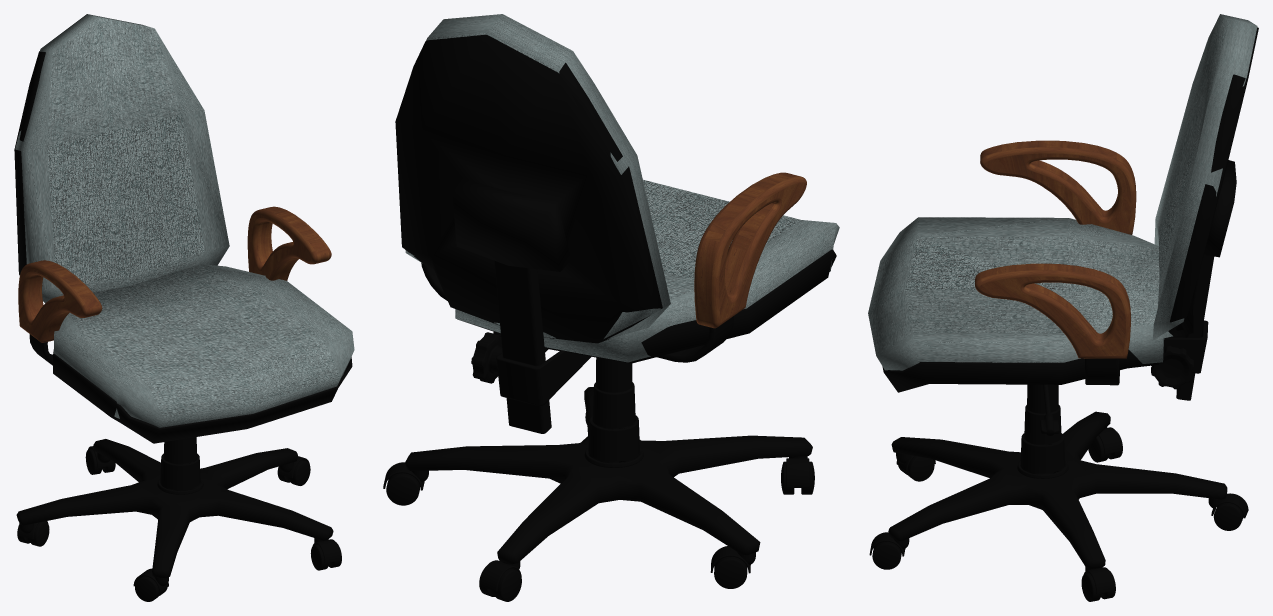
Rendered from greenchair.gltf.
The picture shows the model from 3 angles, left to right: view 1: azimuth 30°, elevation 25°; view 2: azimuth 150°, elevation 25°; view 3: azimuth 270°, elevation 25°; orthographic projection. The views are drawn at different scales.
Visible parts, largest first — view 1: Cube.001, Cube_2, Cylinder, Низ_сидения_3, Выдавливание, Cone, Закругление_1, Низ_сидения, Закругление_2, Шапка_1, Шапка_2, Oil_Tank (+1 smaller); view 2: Низ_сидения, Cylinder, Cube_2, Cube.001, Стойка_спинки, Cone, Низ_сидения_3, Выдавливание, Extrude_NURBS_2, Закругление_1, Шапка_1, Симметрия_1 (+7 smaller); view 3: Cube_2, Cylinder, Cube.001, Низ_сидения, Низ_сидения_3, Закругление_1, Выдавливание, Закругление_2, Cone, Шапка_1, Шапка_2, Стойка_спинки (+7 smaller).
Boxes of the visible parts, x1,y1,x2,y2 form: Cube.001: (15,14,229,303); Cube_2: (54,264,354,427); Cylinder: (16,439,333,578); Низ_сидения_3: (53,349,352,443); Выдавливание: (28,206,329,342); Cone: (157,437,203,494); Закругление_1: (18,206,331,342); Низ_сидения: (14,51,45,275); Закругление_2: (40,209,317,330); Шапка_1: (18,268,82,338); Шапка_2: (248,214,311,279); Oil_Tank: (135,576,167,601); Низ_сидения: (395,34,662,343); Cylinder: (405,387,812,564); Cube_2: (455,179,839,362); Cube.001: (405,14,670,339); Стойка_спинки: (494,260,551,433); Cone: (584,357,643,467); Низ_сидения_3: (457,249,836,363); Выдавливание: (697,172,799,328); Extrude_NURBS_2: (496,348,591,405); Закругление_1: (711,176,806,328); Шапка_1: (719,183,806,322); Симметрия_1: (421,263,733,362); Cube_2: (868,217,1164,370); Cylinder: (888,411,1227,569); Cube.001: (1153,14,1257,340); Низ_сидения: (1168,27,1258,336); Низ_сидения_3: (882,350,1159,392); Закругление_1: (975,140,1130,358); Выдавливание: (975,141,1136,340); Закругление_2: (976,147,1135,333); Cone: (1017,384,1068,478); Шапка_1: (979,276,1125,355); Шапка_2: (984,153,1131,232); Стойка_спинки: (1176,255,1214,400).
Bounding box in the file's own units: 6.52 × 9.72 × 6.81.
5 materials, 3 textured.
